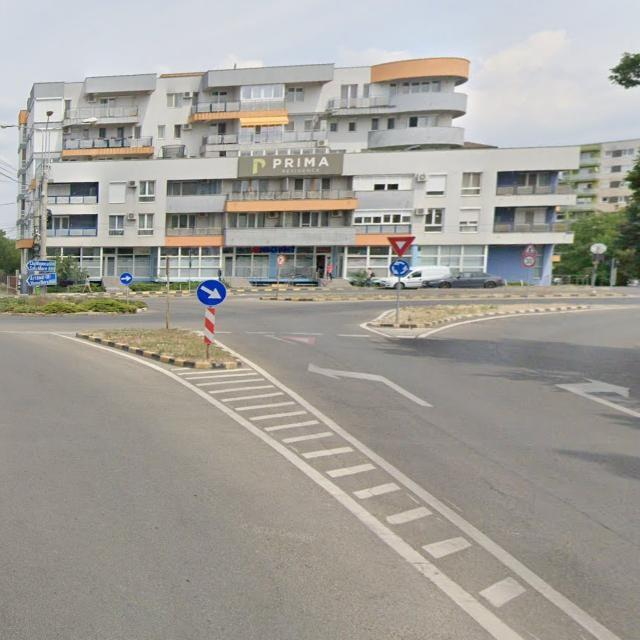prio_give_way: (387, 235, 416, 258)
